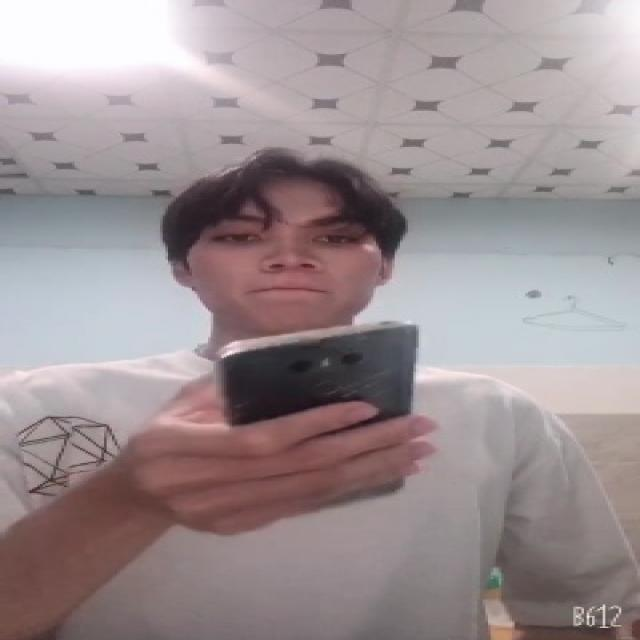Phone: (216, 316, 421, 510)
